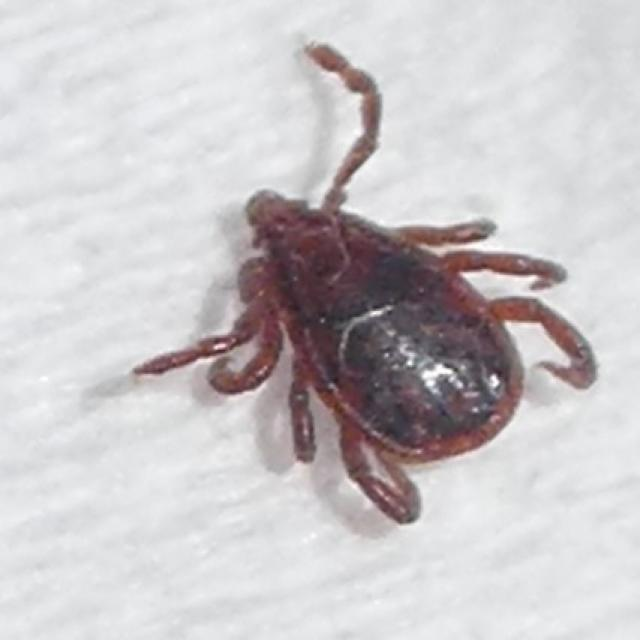Rhipicephalus Sanguineus-M: (129, 42, 600, 527)
